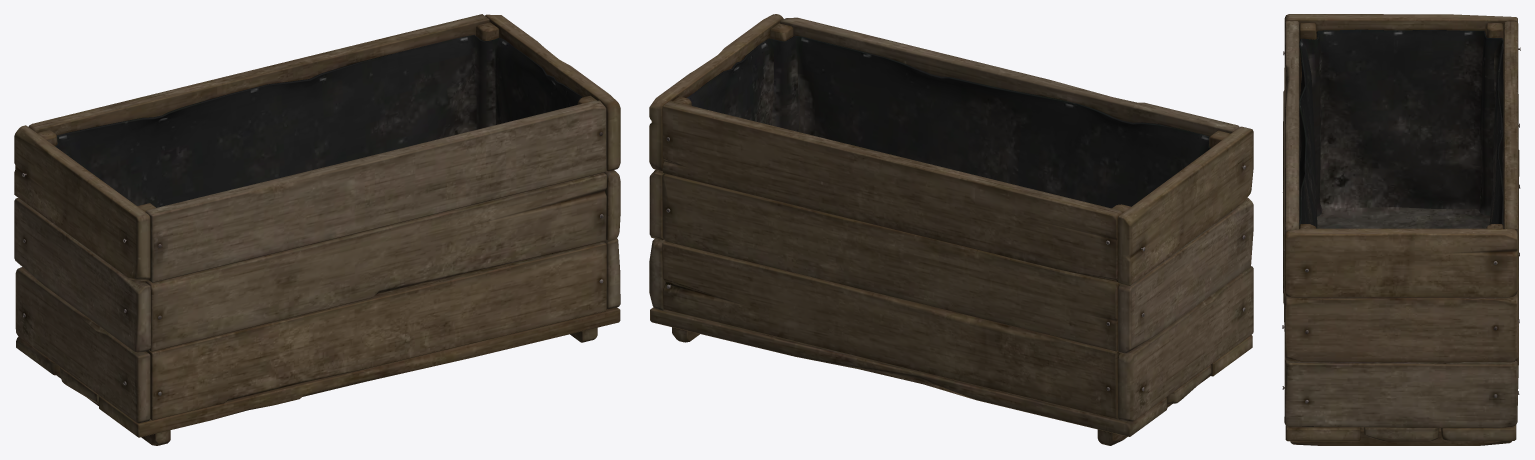
File: ph_planter.glb
The picture shows the model from 3 angles, left to right: view 1: azimuth 30°, elevation 25°; view 2: azimuth 150°, elevation 25°; view 3: azimuth 270°, elevation 25°; orthographic projection. The views are drawn at different scales.
Parts seen in each view (by area): view 1: planter_box_01; view 2: planter_box_01; view 3: planter_box_01.
Part boxes in pixels (left/top/right/bottom): planter_box_01: left=14, top=14, right=620, bottom=445; planter_box_01: left=649, top=14, right=1253, bottom=445; planter_box_01: left=1282, top=14, right=1520, bottom=445.
Size of the model in its own units: 0.9126 by 0.425 by 0.4137.
1 material, 1 textured.
